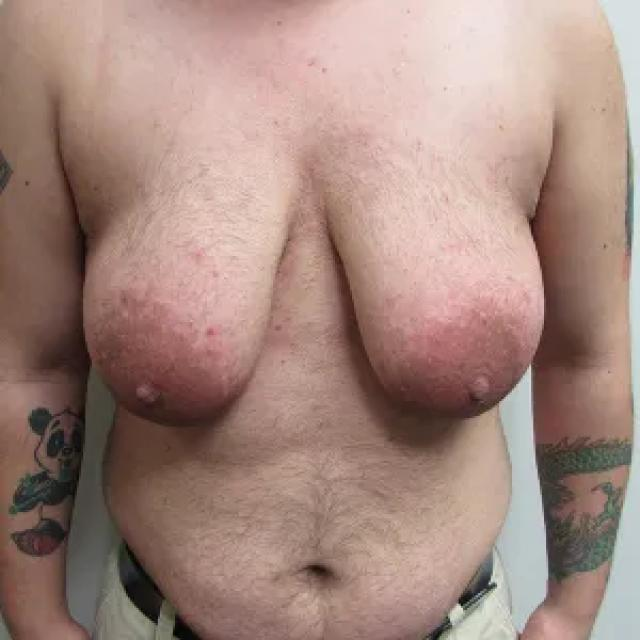Seno ileso: (314, 146, 554, 436), (74, 148, 304, 447)
